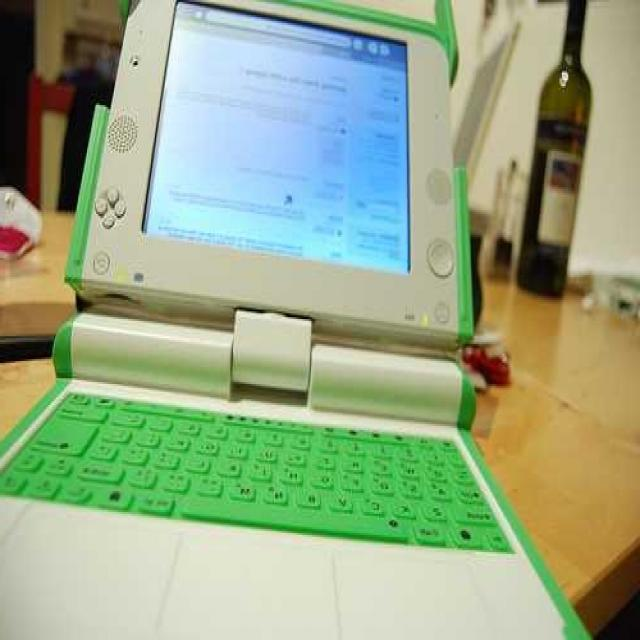laptop: (0, 13, 535, 639)
